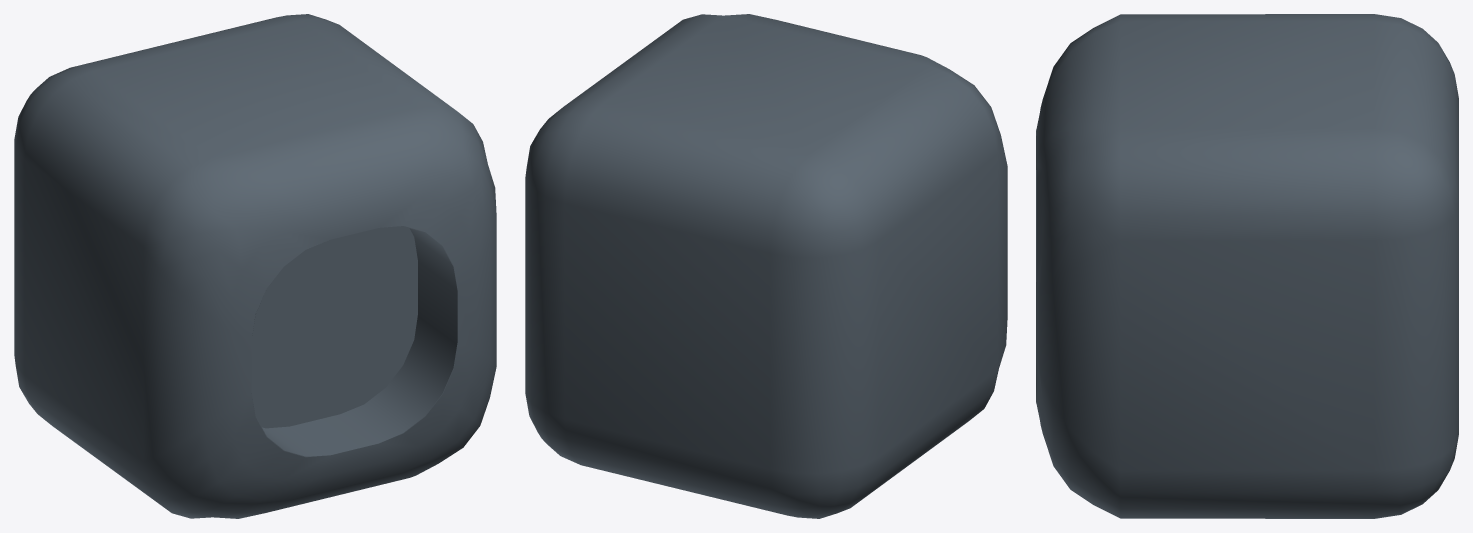
File: Exhaust.fbx
3 views of the same model, side by side, from view 1: azimuth 30°, elevation 25°; view 2: azimuth 150°, elevation 25°; view 3: azimuth 270°, elevation 25° (orthographic). The views are drawn at different scales.
Visible parts, largest first — view 1: Exhaust; view 2: Exhaust; view 3: Exhaust.
Boxes of the visible parts, <box> form: Exhaust: <box>14,14,496,518</box>; Exhaust: <box>525,14,1007,518</box>; Exhaust: <box>1036,14,1458,518</box>.
Size of the model in its own units: 50 by 50 by 50.
